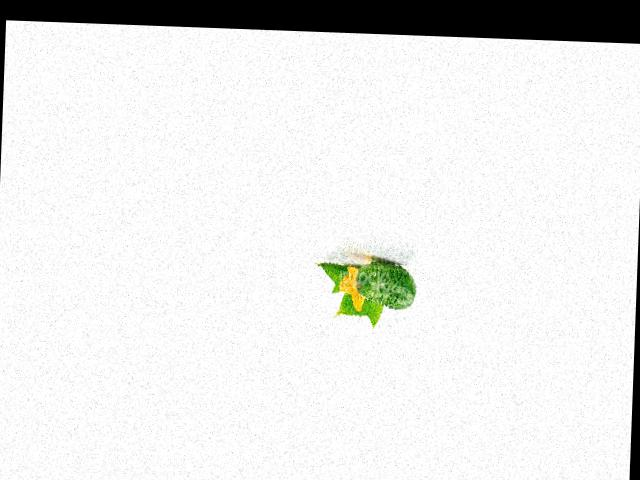cucumber: (356, 260, 417, 310)
